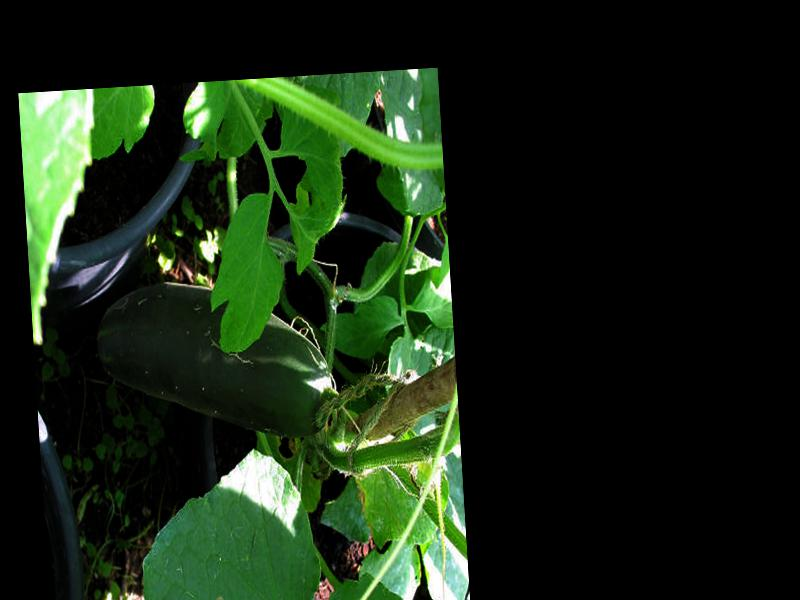Cucumber: (93, 273, 337, 450)
